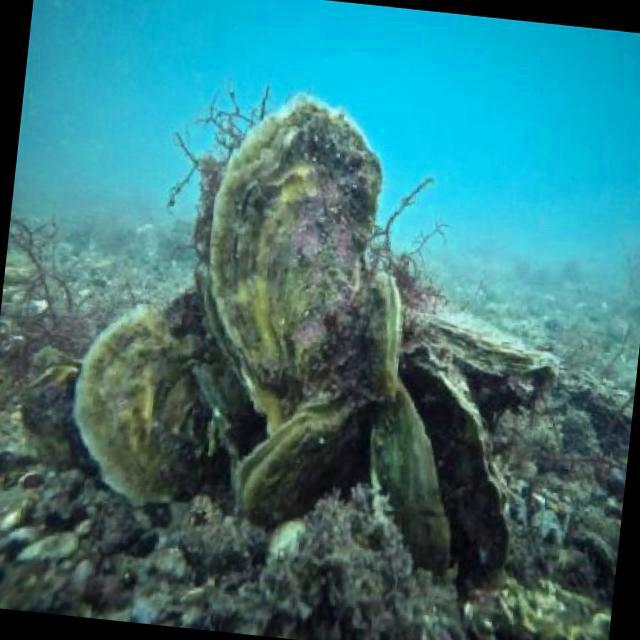Oyster-Closed: (200, 96, 382, 412), (73, 303, 211, 507), (410, 306, 562, 392), (372, 270, 404, 404)
Oyster-Open: (374, 341, 512, 569), (232, 394, 364, 530)
